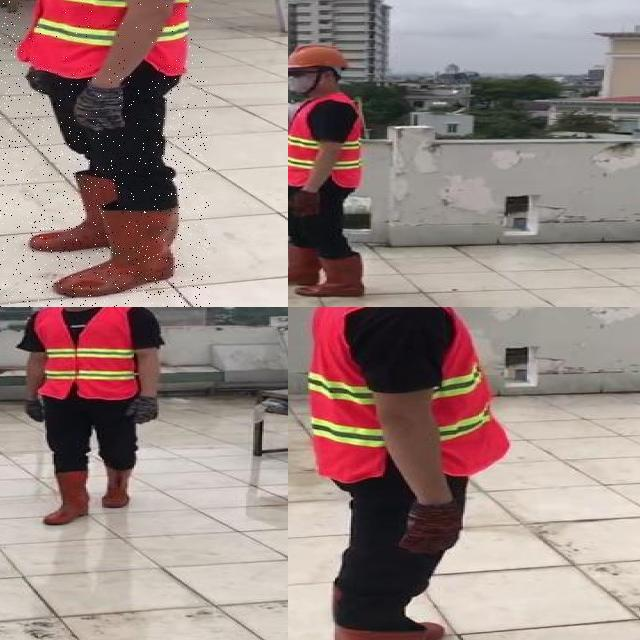boots: (55, 204, 179, 298), (27, 165, 154, 256), (298, 256, 369, 297), (45, 468, 93, 528), (100, 466, 134, 507), (288, 246, 321, 284)
face_mask: (288, 67, 317, 93)
glasses: (288, 68, 310, 79)
hand_glove: (403, 500, 461, 555), (125, 397, 161, 424), (288, 190, 321, 219), (22, 398, 47, 426)
head_helmet: (288, 44, 349, 69)
person: (288, 307, 530, 640), (0, 0, 210, 307), (17, 307, 174, 526), (288, 41, 378, 300)
vest: (310, 307, 509, 482), (23, 0, 211, 76), (32, 307, 137, 400), (288, 100, 367, 187)
